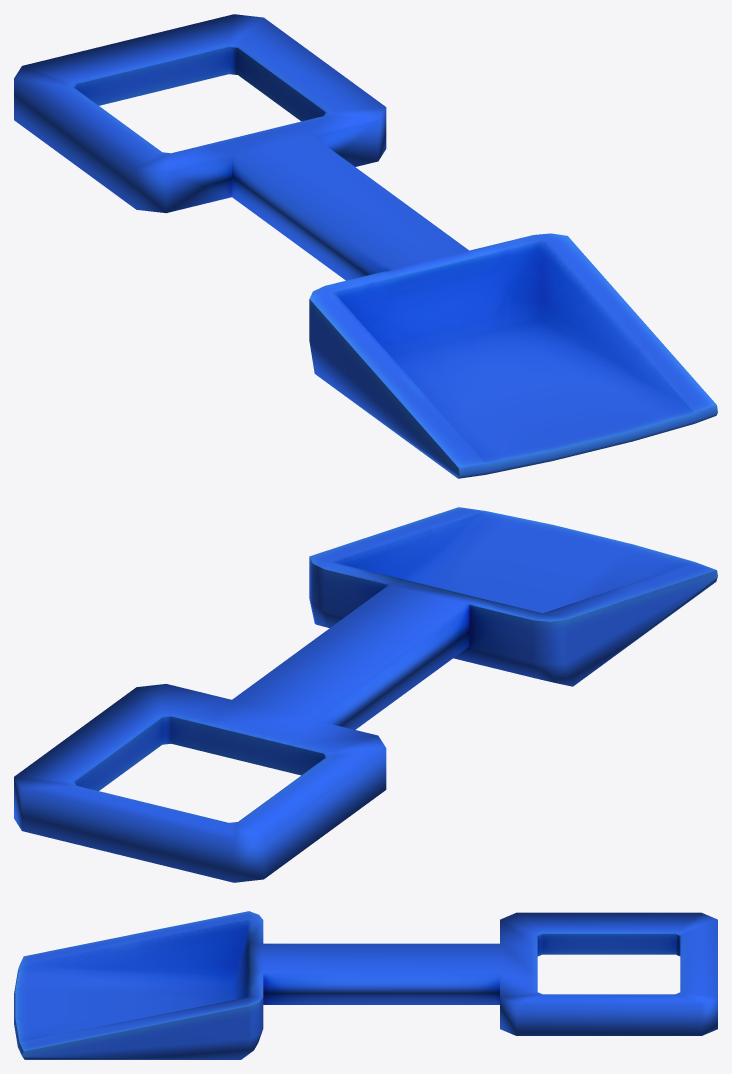
Rendered from plastic_shovel.fbx.
3 views of the same model, one above another, from view 1: azimuth 30°, elevation 25°; view 2: azimuth 150°, elevation 25°; view 3: azimuth 270°, elevation 25° (orthographic). The views are drawn at different scales.
Visible parts, largest first — view 1: plastic_shovel_mesh; view 2: plastic_shovel_mesh; view 3: plastic_shovel_mesh.
Boxes of the visible parts, left/top/right/bottom form: plastic_shovel_mesh: left=14, top=14, right=717, bottom=478; plastic_shovel_mesh: left=14, top=507, right=717, bottom=882; plastic_shovel_mesh: left=14, top=911, right=717, bottom=1059.
Bounding box in the file's own units: 0.1602 × 0.0421 × 0.501.
